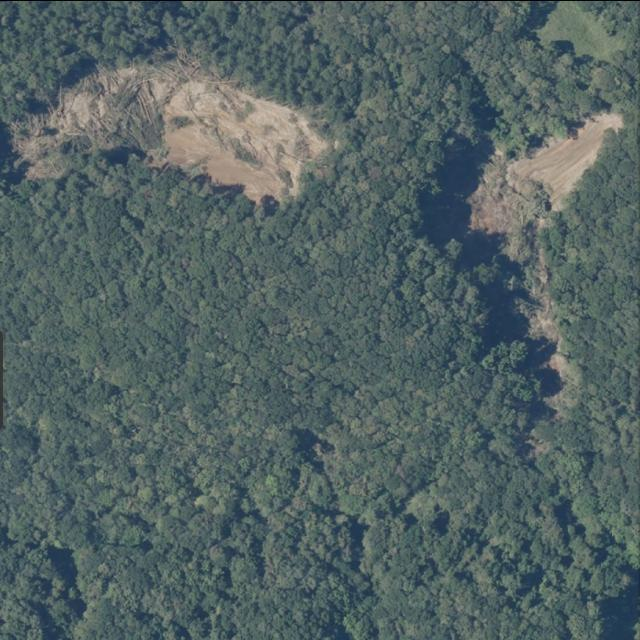landslide: (11, 53, 336, 203), (469, 111, 624, 380)
